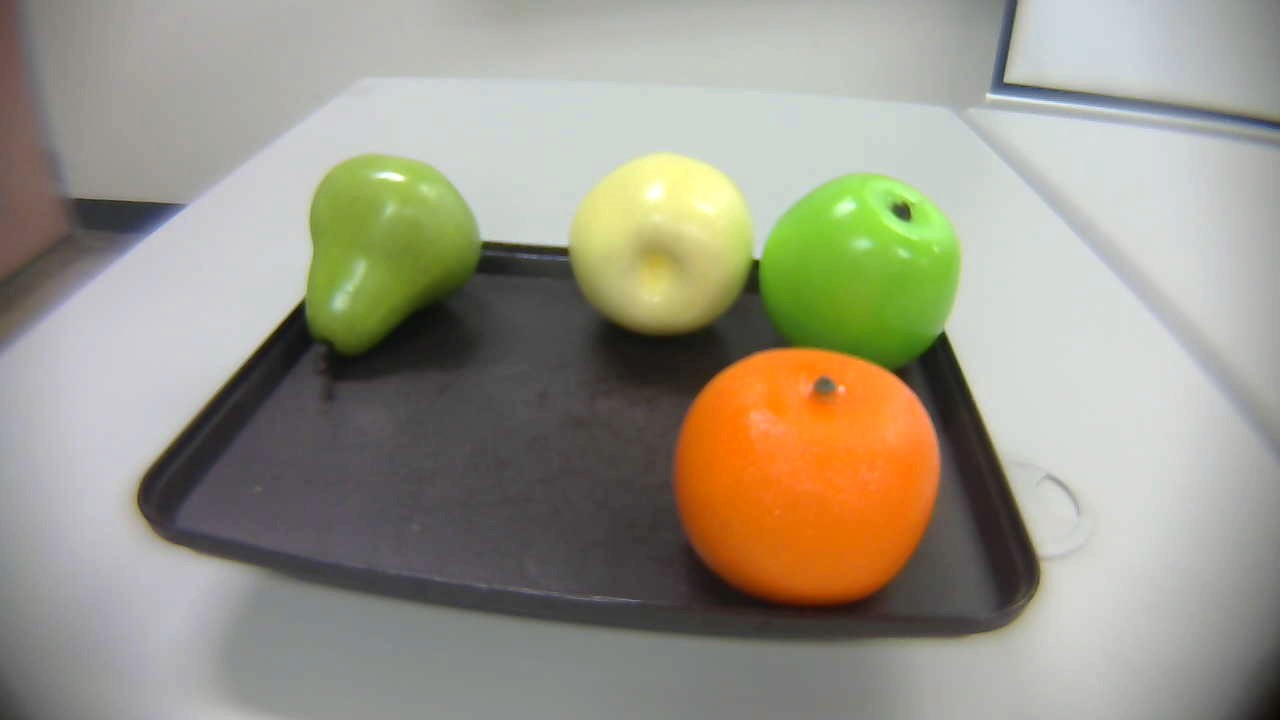green apple: (750, 166, 973, 388)
green pear: (302, 143, 483, 388)
orange: (675, 348, 948, 603)
western pear: (558, 136, 763, 353)
